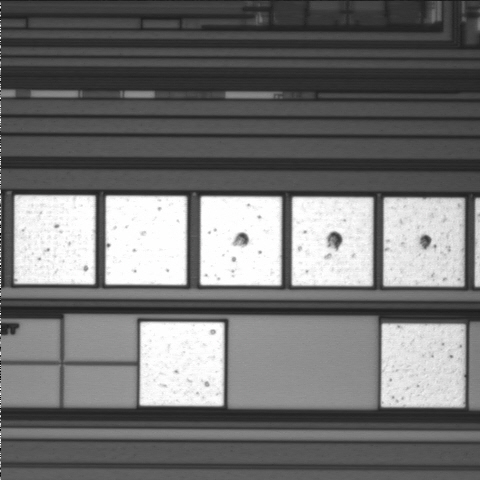pad: (200, 196, 282, 286), (105, 196, 187, 285), (14, 195, 95, 284), (292, 197, 373, 286), (383, 198, 464, 286), (140, 322, 224, 406), (381, 324, 465, 407)
